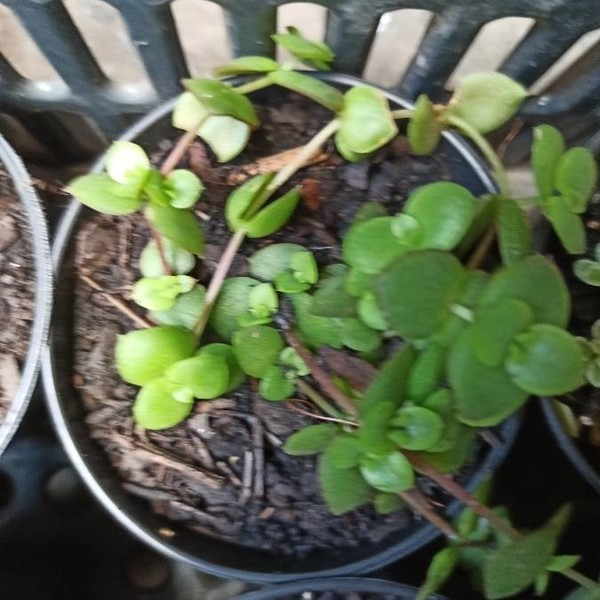obstacle: (59, 46, 579, 581)
